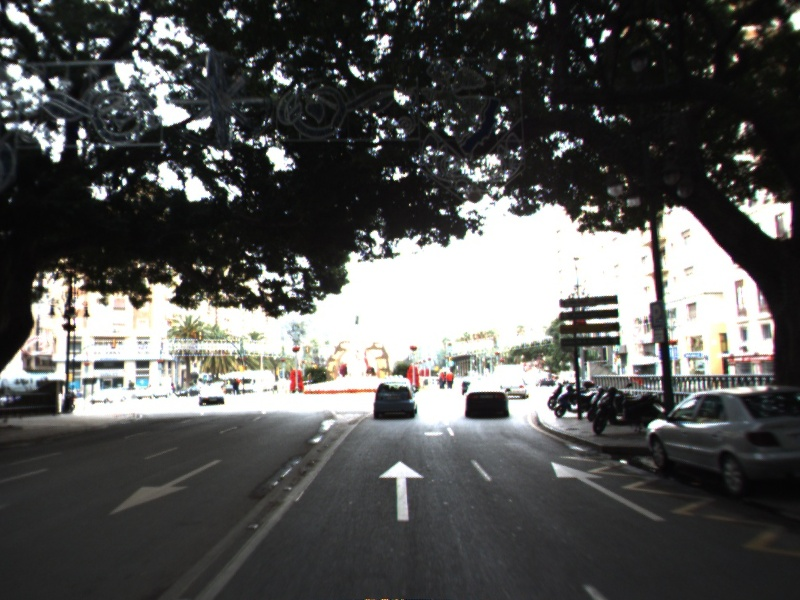STRAIGHT: (549, 460, 669, 524), (376, 458, 427, 523)
